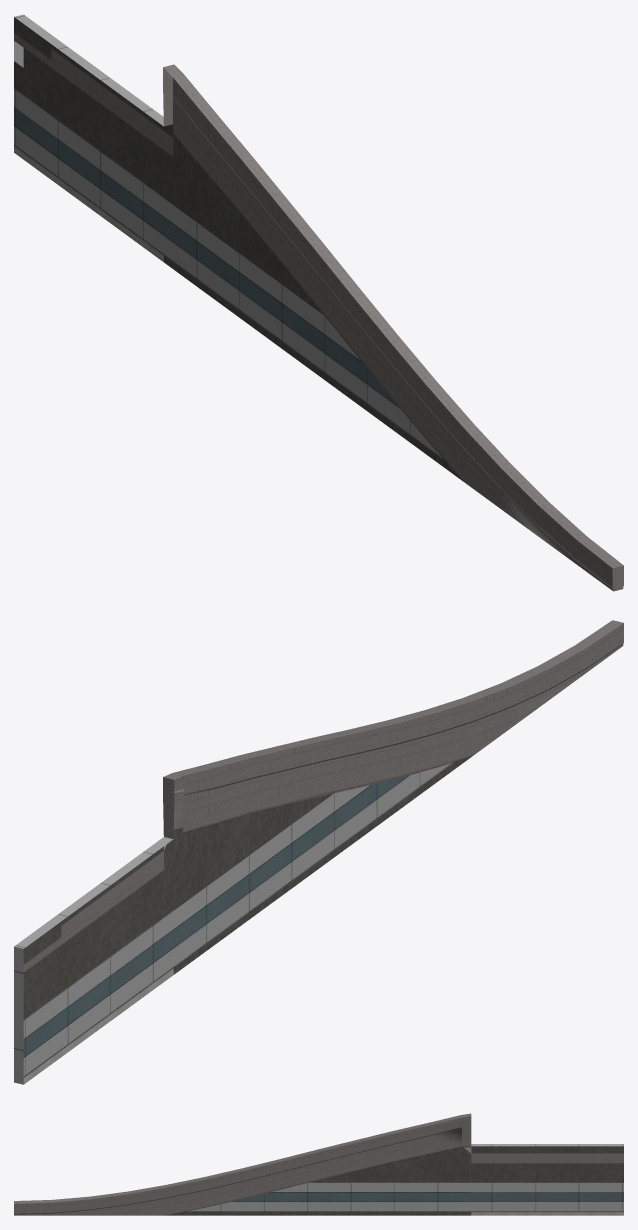
Rendered from barrier.fbx.
The picture shows the model from 3 angles, top to bottom: view 1: azimuth 30°, elevation 25°; view 2: azimuth 150°, elevation 25°; view 3: azimuth 270°, elevation 25°; orthographic projection. The views are drawn at different scales.
Parts seen in each view (by area): view 1: 12DR_Slope.002; view 2: 12DR_Slope.002; view 3: 12DR_Slope.002.
Boxes of the visible parts, box(x1,y1,x2,y2) form: 12DR_Slope.002: box(14, 14, 623, 591); 12DR_Slope.002: box(14, 620, 623, 1084); 12DR_Slope.002: box(14, 1113, 623, 1215).
Bounding box in the file's own units: 70 × 1151 × 6400.
